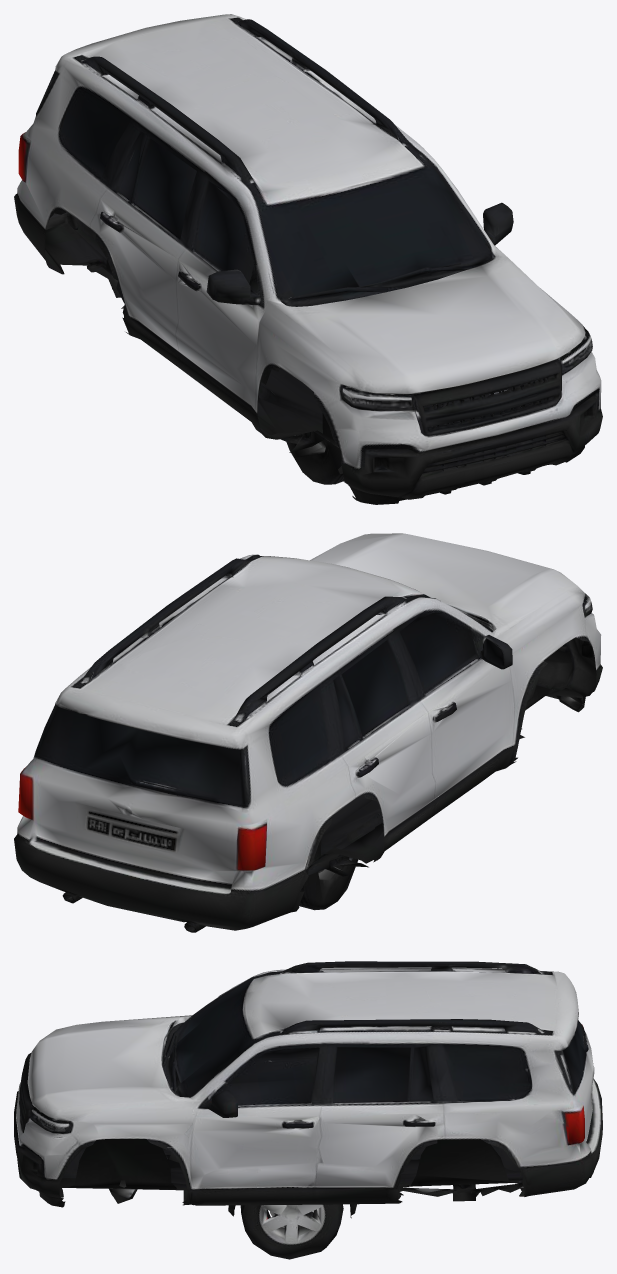
Rendered from suv.glb.
3 renders of one model, top to bottom at view 1: azimuth 30°, elevation 25°; view 2: azimuth 150°, elevation 25°; view 3: azimuth 270°, elevation 25°, orthographic. The views are drawn at different scales.
Visible parts, largest first — view 1: body, wheel; view 2: body, wheel; view 3: body, wheel.
Part boxes in pixels (x1,y1,x2,y2): body: (14,14,602,504); wheel: (280,431,344,484); body: (14,533,602,932); wheel: (299,855,368,910); body: (14,961,602,1207); wheel: (228,1204,356,1259).
Size of what is drawn, in the model's own units: 2.31 by 2.45 by 5.
1 material, 1 textured.
